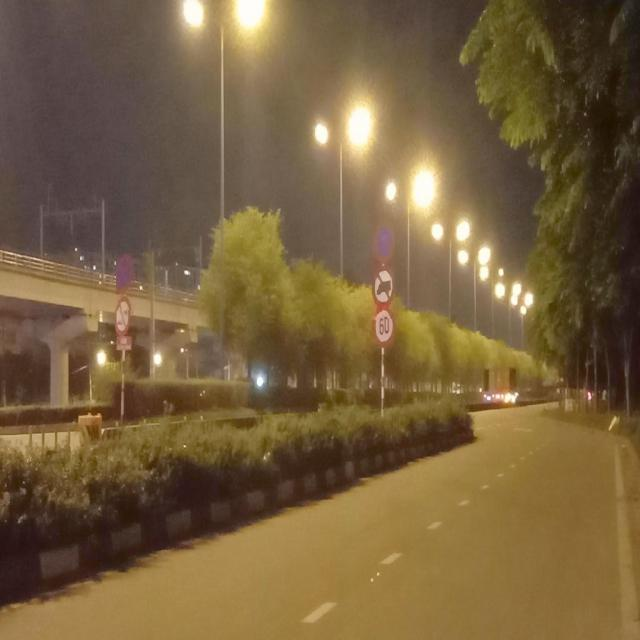cam_do_xe: (372, 219, 395, 263)
cam_dung_xe_va_do_xe: (116, 252, 136, 294)
cam_o_to_tai: (372, 266, 395, 310)
cam_xe_2_banh_va_xe_3_banh_co_dong_co: (115, 296, 134, 336)
toc_do_toi_da_60: (373, 308, 395, 347)
